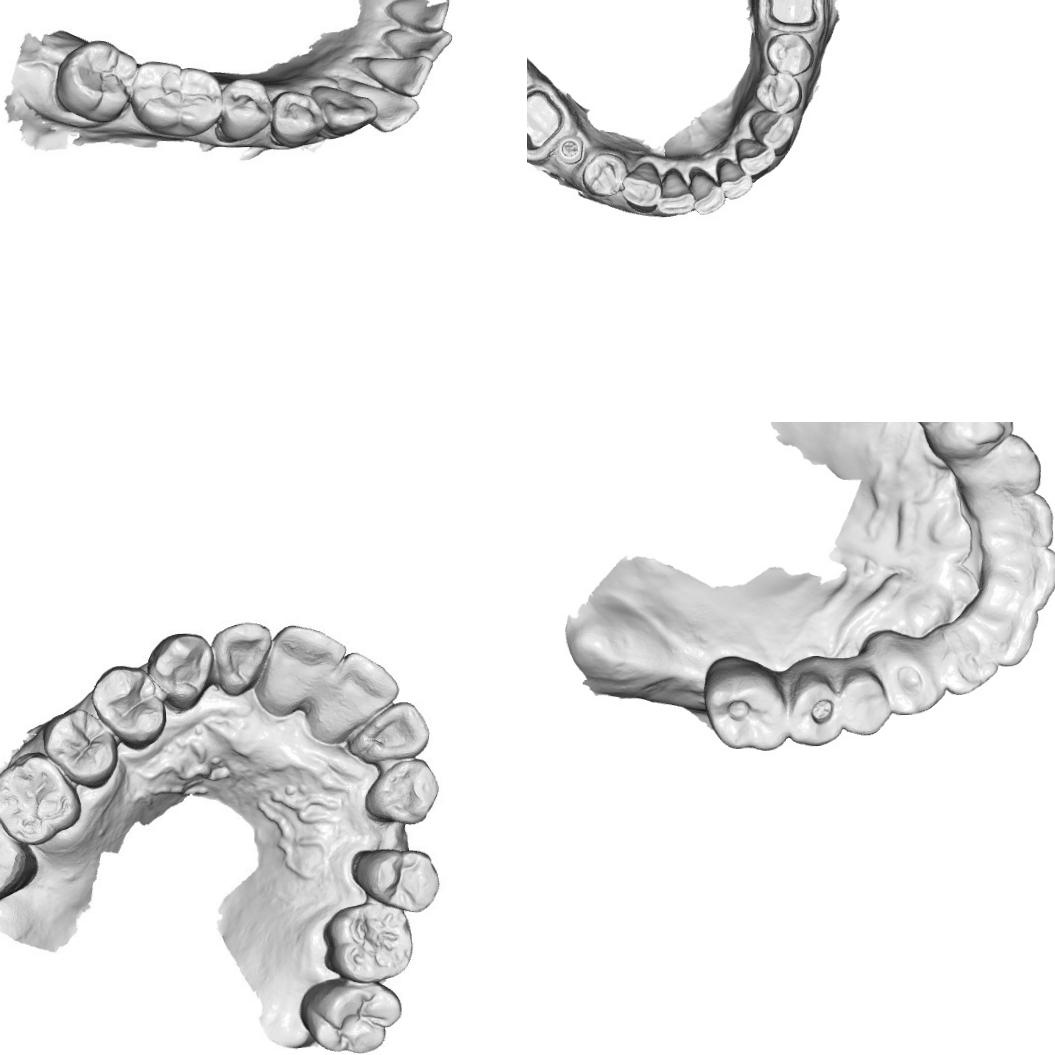canine: (876, 630, 948, 715), (360, 757, 444, 827), (964, 434, 1044, 502), (148, 630, 213, 712), (314, 81, 376, 136), (747, 106, 798, 156), (619, 159, 663, 215)
crown: (527, 85, 568, 155), (762, 0, 822, 32)
implant: (555, 132, 586, 167)
incisor: (314, 648, 396, 749), (264, 620, 340, 720), (344, 699, 434, 764), (345, 69, 424, 141), (208, 618, 272, 696), (974, 601, 1042, 669), (992, 543, 1055, 613), (986, 491, 1055, 551), (933, 637, 1000, 696), (387, 22, 449, 66), (364, 51, 429, 92), (656, 165, 696, 218), (712, 157, 756, 201), (688, 168, 727, 216), (734, 136, 778, 178)
molar: (699, 652, 790, 754), (319, 897, 419, 984), (295, 975, 403, 1055), (50, 38, 138, 124), (128, 59, 224, 133), (0, 755, 79, 840), (0, 811, 39, 905)
premolar: (89, 663, 169, 754), (38, 704, 120, 790), (348, 841, 441, 914), (784, 668, 845, 748), (836, 664, 890, 737), (220, 76, 276, 140), (270, 87, 325, 145), (939, 422, 1020, 456), (579, 150, 629, 200), (764, 31, 816, 77), (753, 70, 804, 115)
